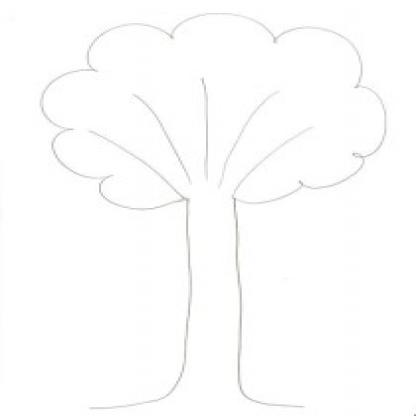branch_line: (87, 80, 317, 197)
crown_cloud: (42, 14, 388, 208)
trunk_straight: (184, 227, 244, 359)
